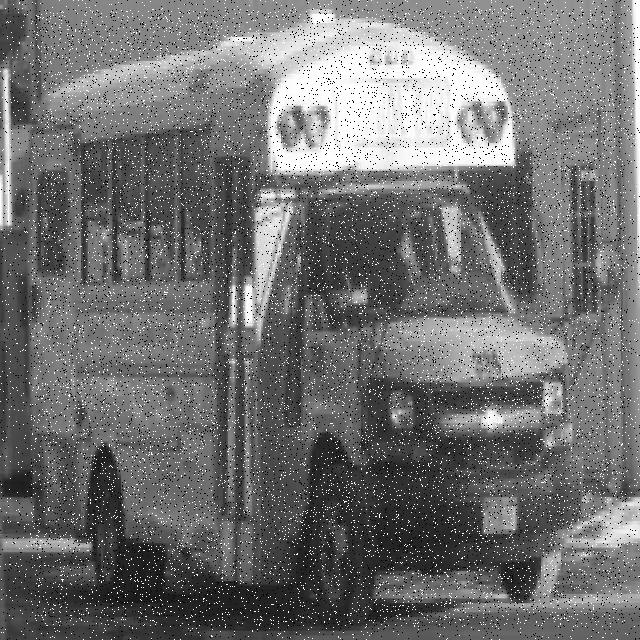Bus- Small: (31, 9, 625, 627)
